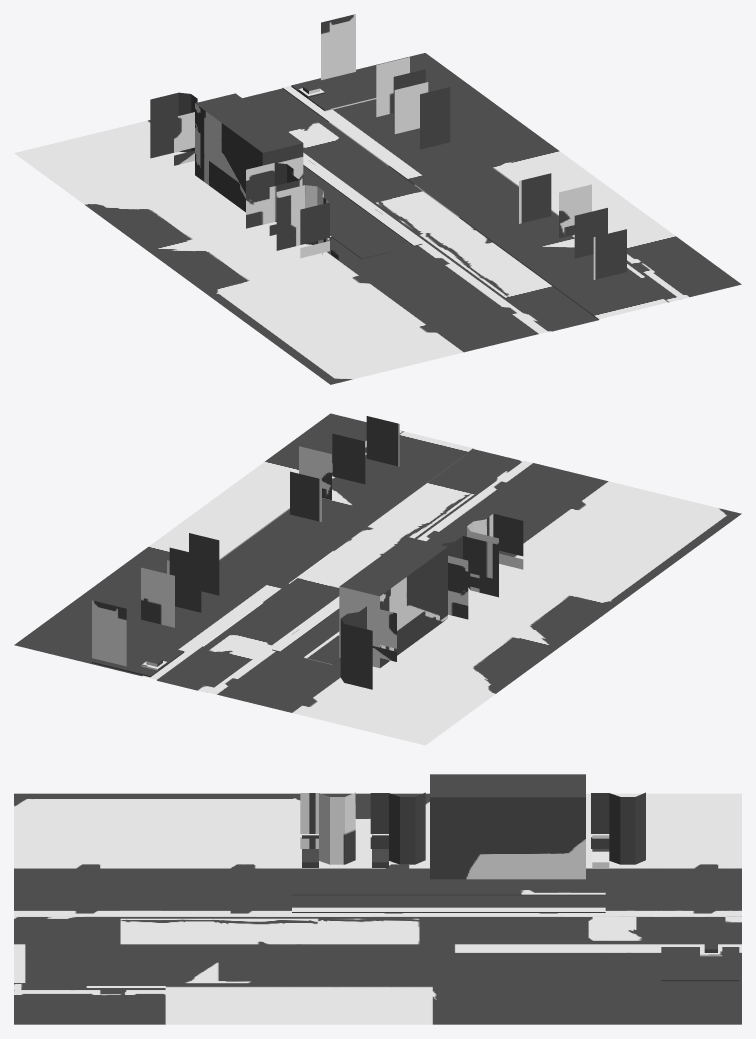
The model's file is shadow 03.fbx.
3 views of the same model, one above another, from view 1: azimuth 30°, elevation 25°; view 2: azimuth 150°, elevation 25°; view 3: azimuth 270°, elevation 25° (orthographic). The views are drawn at different scales.
Parts seen in each view (by area): view 1: Shadow 03; view 2: Shadow 03; view 3: Shadow 03.
Part boxes in pixels (x1,y1,x2,y2): Shadow 03: (14,14,741,384); Shadow 03: (14,413,741,745); Shadow 03: (14,774,741,1024).
Bounding box in the file's own units: 3858 × 662 × 5142.
